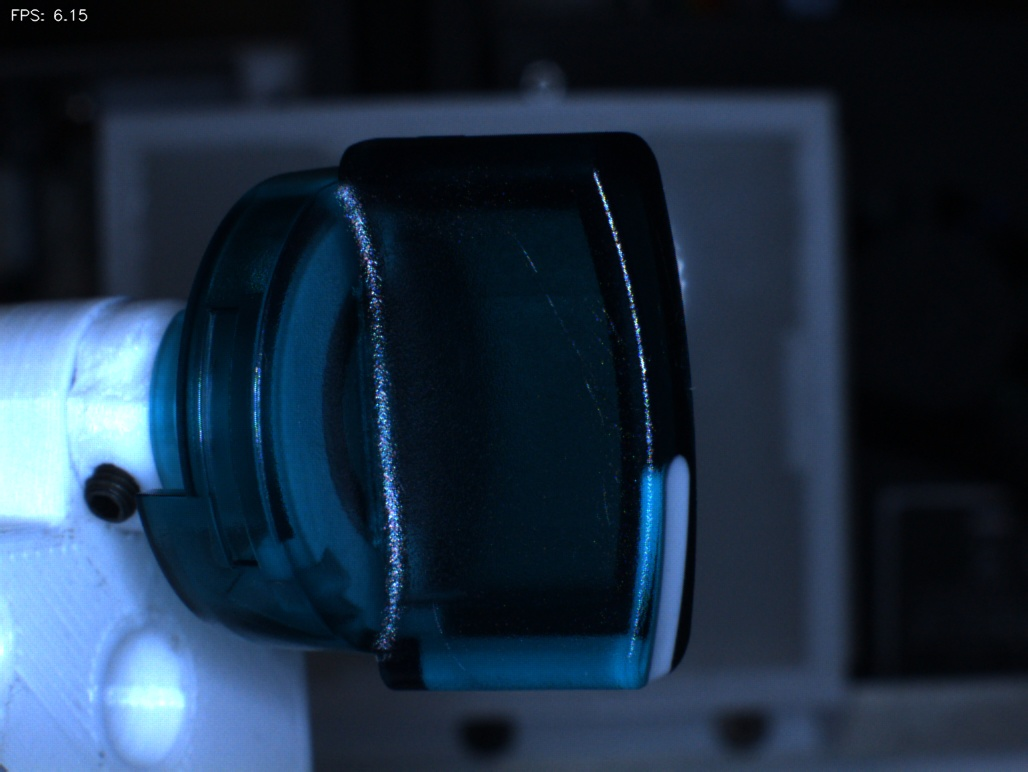Givrage: (502, 226, 637, 529), (409, 586, 490, 686)
